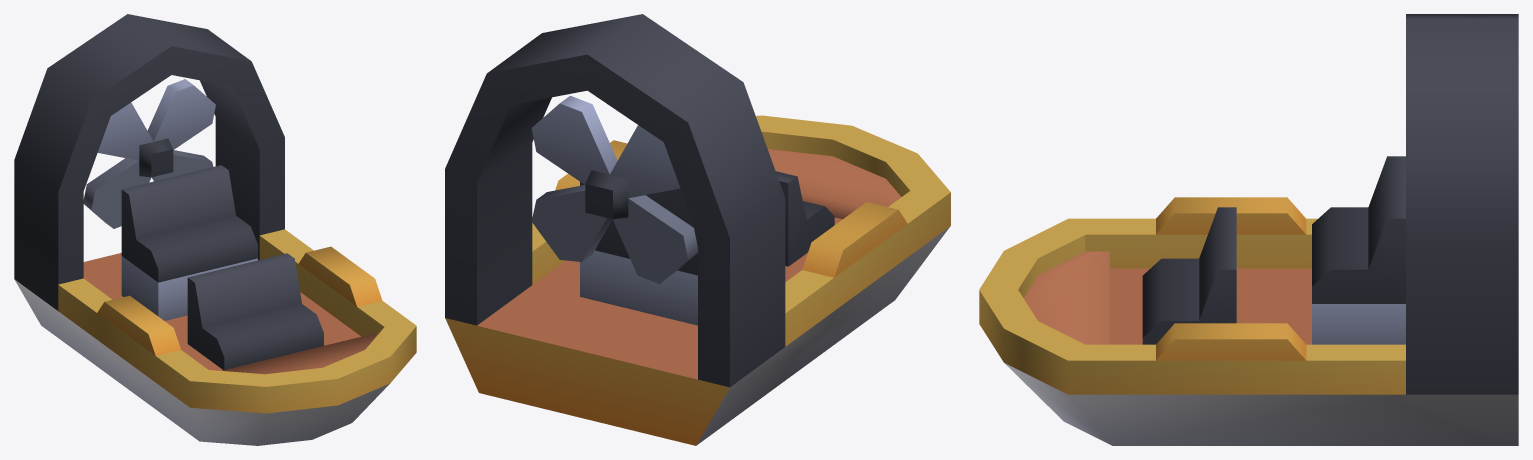
Rendered from boat-fan.glb.
3 views of the same model, side by side, from view 1: azimuth 30°, elevation 25°; view 2: azimuth 150°, elevation 25°; view 3: azimuth 270°, elevation 25° (orthographic). The views are drawn at different scales.
Parts seen in each view (by area): view 1: boat-fan, fan; view 2: boat-fan, fan; view 3: boat-fan.
Boxes of the visible parts, x1,y1,x2,y2 form: boat-fan: (14,14,416,445); fan: (83,79,215,228); boat-fan: (445,14,950,445); fan: (531,95,697,283); boat-fan: (979,14,1518,445).
Bounding box in the file's own units: 1.78 × 2.18 × 2.87.
